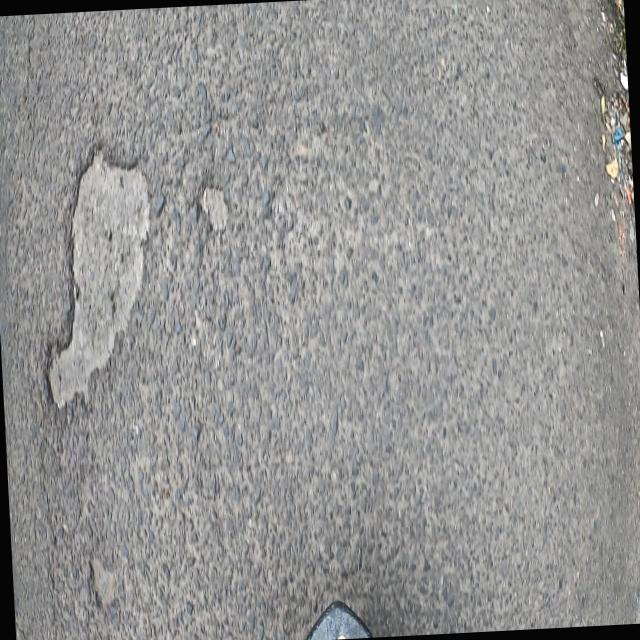Lubang: (50, 153, 150, 407), (88, 557, 117, 611)
